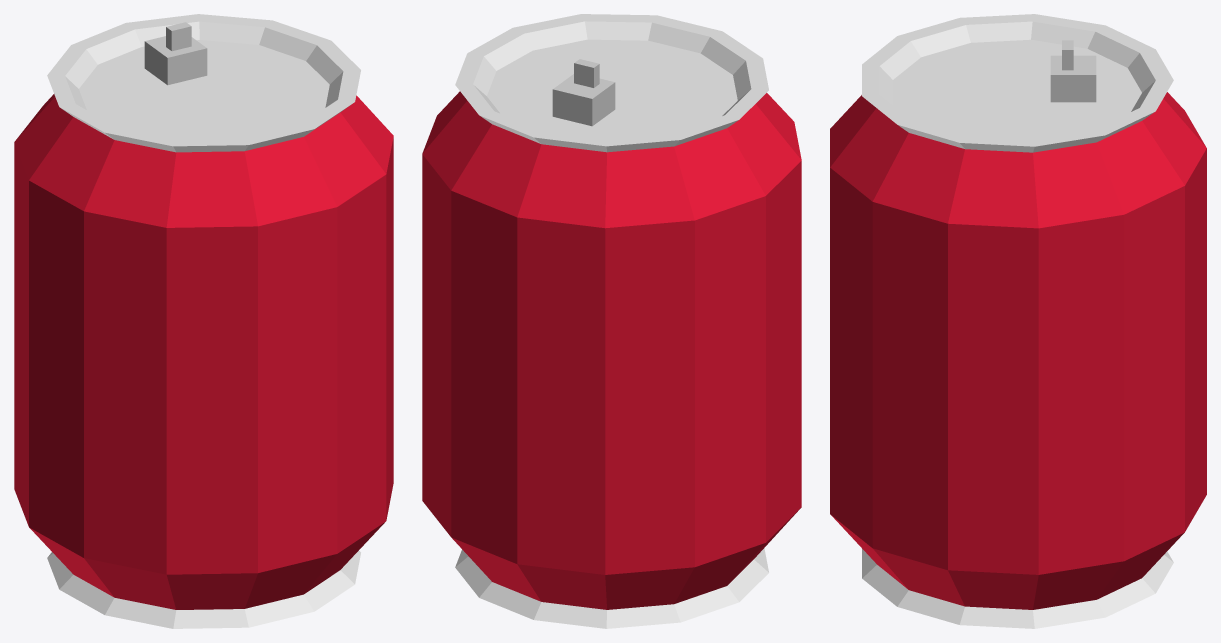
Rendered from soft_drink_red.glb.
3 views of the same model, side by side, from view 1: azimuth 30°, elevation 25°; view 2: azimuth 150°, elevation 25°; view 3: azimuth 270°, elevation 25° (orthographic).
Visible parts, largest first — view 1: Cylinder.001; view 2: Cylinder.001; view 3: Cylinder.001.
Boxes of the visible parts, bbox=[...] form: Cylinder.001: bbox=[14, 14, 393, 628]; Cylinder.001: bbox=[422, 14, 801, 628]; Cylinder.001: bbox=[830, 14, 1206, 628].
Size of the model in its own units: 199 by 299 by 197.
